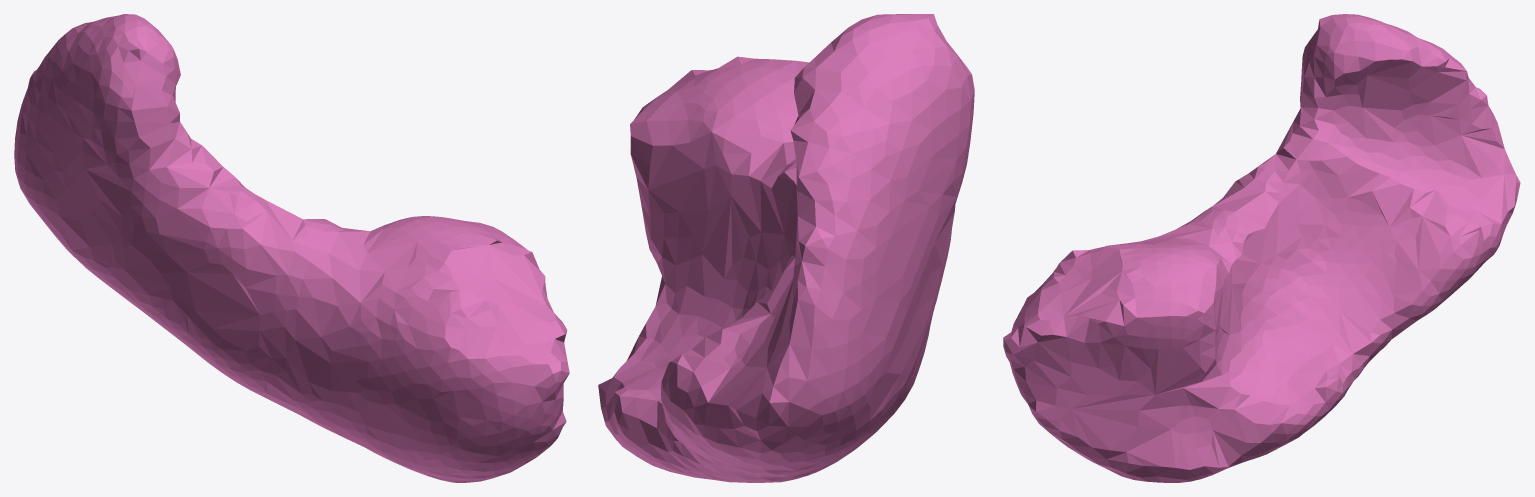
The model's file is Model_10408_LH__External_cortex_of_the_inferior_colliculus_(ECIC).obj.
3 renders of one model, left to right at view 1: azimuth 30°, elevation 25°; view 2: azimuth 150°, elevation 25°; view 3: azimuth 270°, elevation 25°, orthographic. The views are drawn at different scales.
Size of the model in its own units: 1.91 by 2.37 by 3.03.
